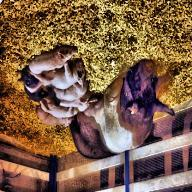boar: (16, 42, 178, 159)
